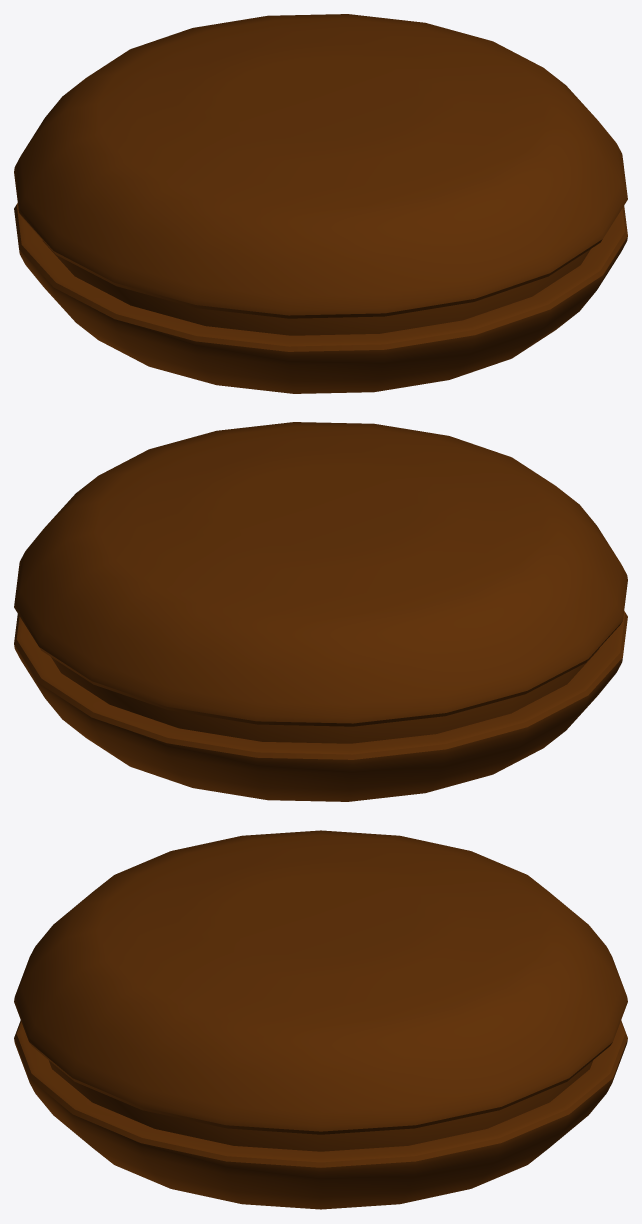
File: makaron.fbx
The picture shows the model from 3 angles, top to bottom: view 1: azimuth 30°, elevation 25°; view 2: azimuth 150°, elevation 25°; view 3: azimuth 270°, elevation 25°; orthographic projection.
Parts seen in each view (by area): view 1: pSphere1; view 2: pSphere1; view 3: pSphere1.
Boxes of the visible parts, x1,y1,x2,y2 form: pSphere1: (14,14,627,393); pSphere1: (14,422,627,801); pSphere1: (14,830,627,1209).
Size of the model in its own units: 1.94 by 0.7232 by 1.94.
